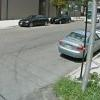Car: (11, 12, 74, 32)
